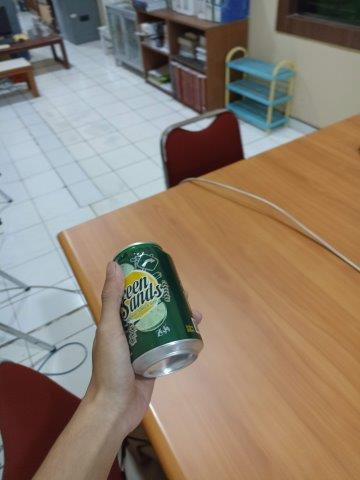kaleng: (113, 241, 204, 378)
